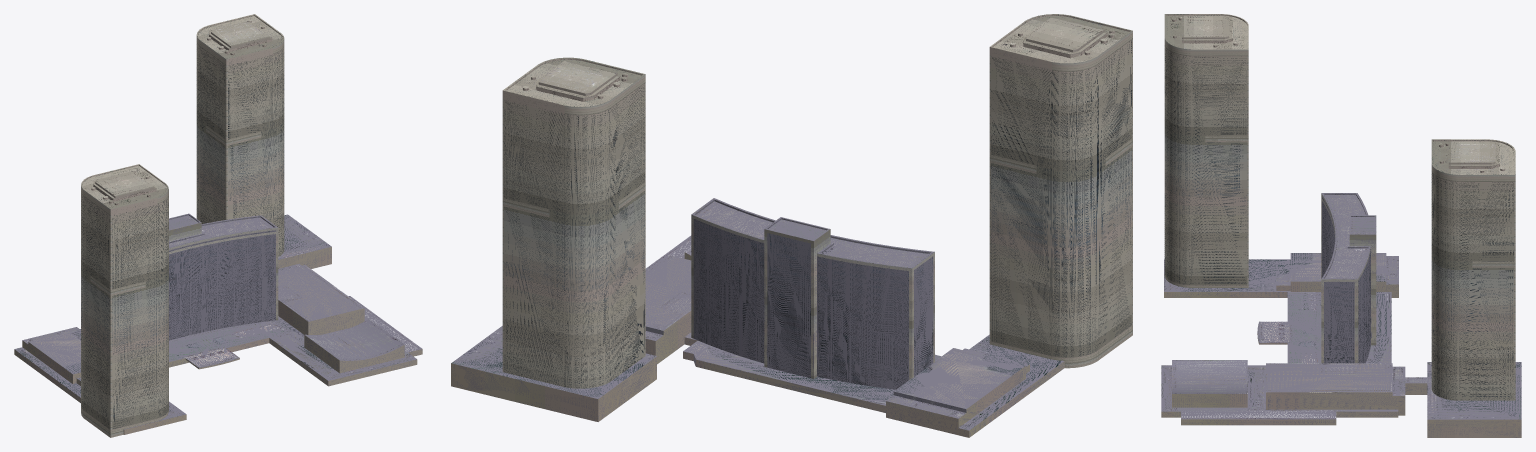
File: TheChinaWorldTradeCenter.fbx
3 views of the same model, side by side, from view 1: azimuth 30°, elevation 25°; view 2: azimuth 150°, elevation 25°; view 3: azimuth 270°, elevation 25° (orthographic). The views are drawn at different scales.
Visible parts, largest first — view 1: Group2, Model, Group1, Group3; view 2: Group2, Group1, Group3, Model; view 3: Model, Group2, Group1, Group3.
Boxes of the visible parts, x1,y1,x2,y2 form: Group2: (81,164,168,437); Model: (14,214,422,434); Group1: (196,14,284,256); Group3: (169,213,278,340); Group2: (989,14,1132,368); Group1: (502,57,645,388); Group3: (691,198,934,389); Model: (451,235,1064,437); Model: (1161,253,1521,437); Group2: (1164,14,1248,287); Group1: (1431,139,1515,400); Group3: (1321,193,1376,363).
Size of the model in its own units: 245 by 158 by 208.
